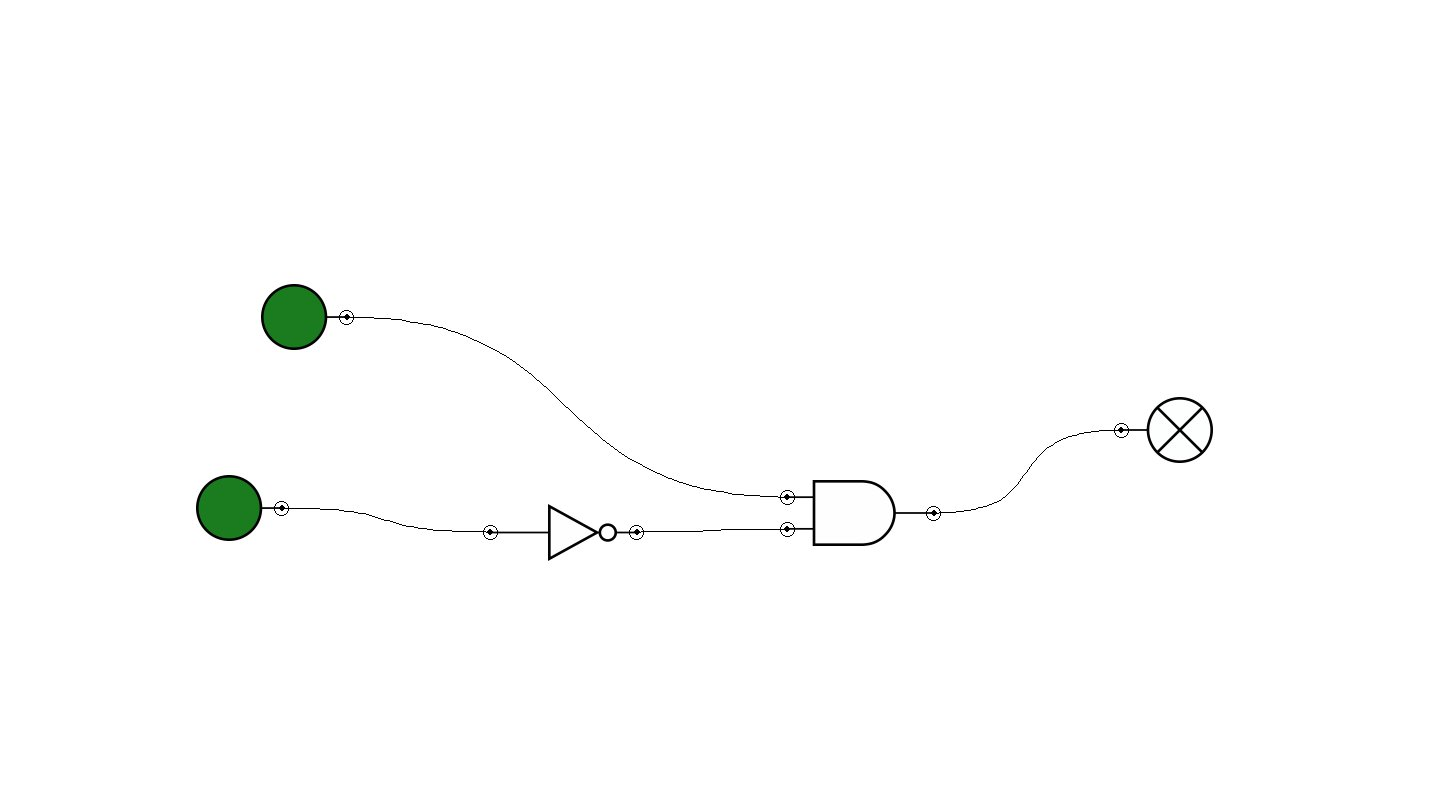and: (780, 480, 941, 546)
bulb: (1114, 397, 1213, 463)
not: (483, 504, 644, 561)
switch_True: (261, 284, 354, 350), (196, 475, 289, 541)
